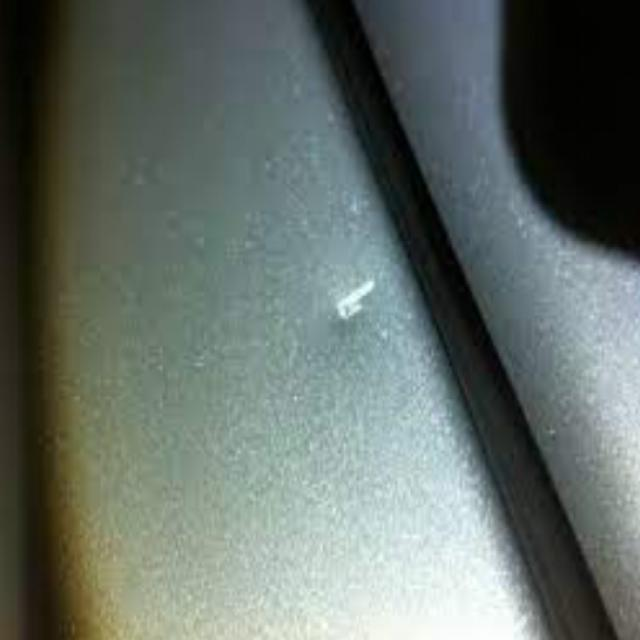dents: (296, 242, 396, 372)
